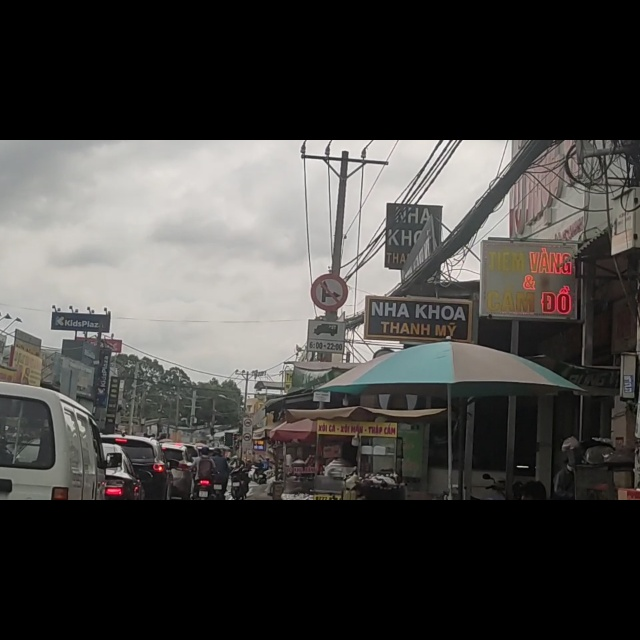bien_cam: (311, 238, 347, 302), (307, 319, 345, 378)
